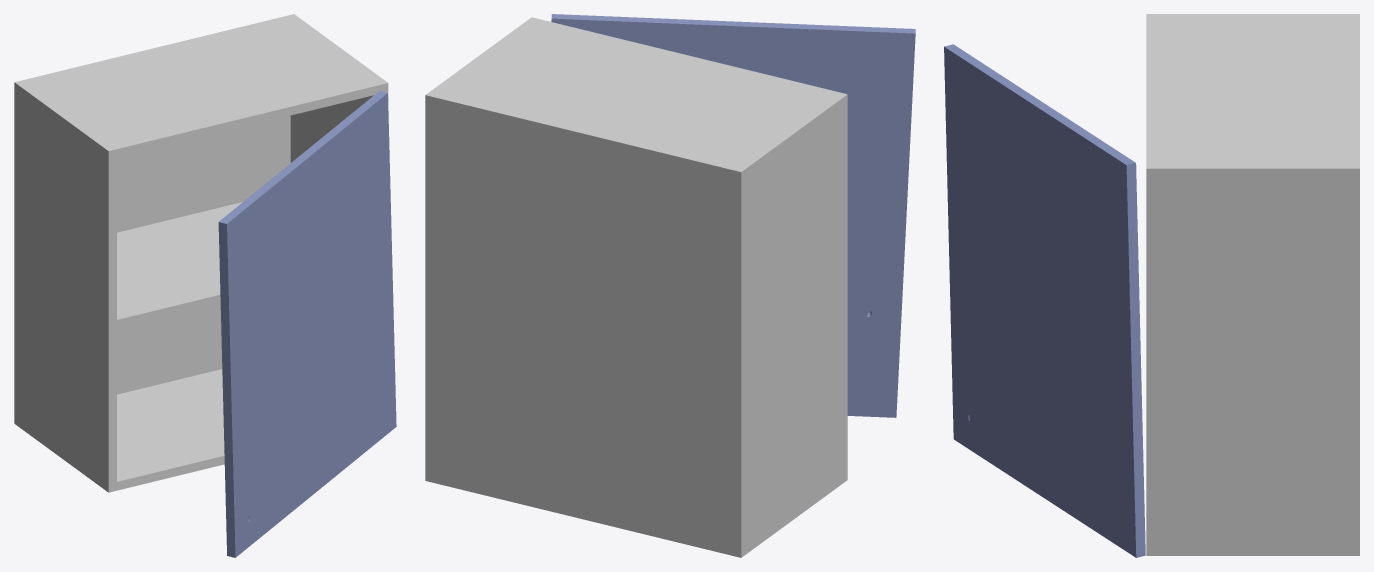
Rendered from Cabinet7.fbx.
The picture shows the model from 3 angles, left to right: view 1: azimuth 30°, elevation 25°; view 2: azimuth 150°, elevation 25°; view 3: azimuth 270°, elevation 25°; orthographic projection. The views are drawn at different scales.
Parts seen in each view (by area): view 1: Baseboard1.003, Cabinet4_Door.002; view 2: Baseboard1.003, Cabinet4_Door.002; view 3: Baseboard1.003, Cabinet4_Door.002.
Boxes of the visible parts, <box> form: Baseboard1.003: <box>14,14,388,492</box>; Cabinet4_Door.002: <box>218,91,396,557</box>; Baseboard1.003: <box>425,17,847,557</box>; Cabinet4_Door.002: <box>551,14,915,417</box>; Baseboard1.003: <box>1146,14,1359,555</box>; Cabinet4_Door.002: <box>944,44,1145,557</box>.
Size of the model in its own units: 60.8 by 72.72 by 68.16.
